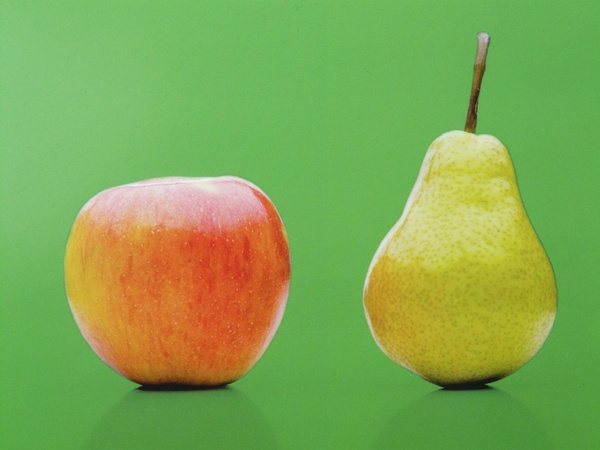Apple: (62, 174, 292, 386)
